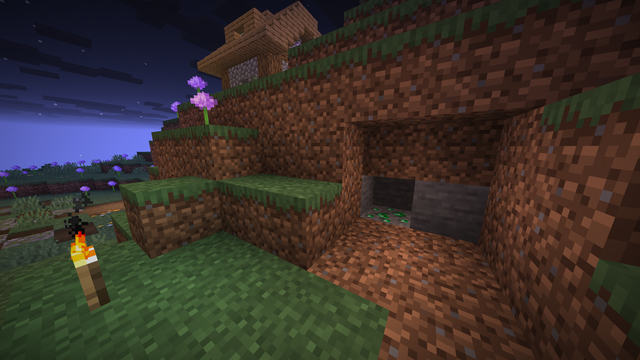emerald: (362, 201, 411, 227)
